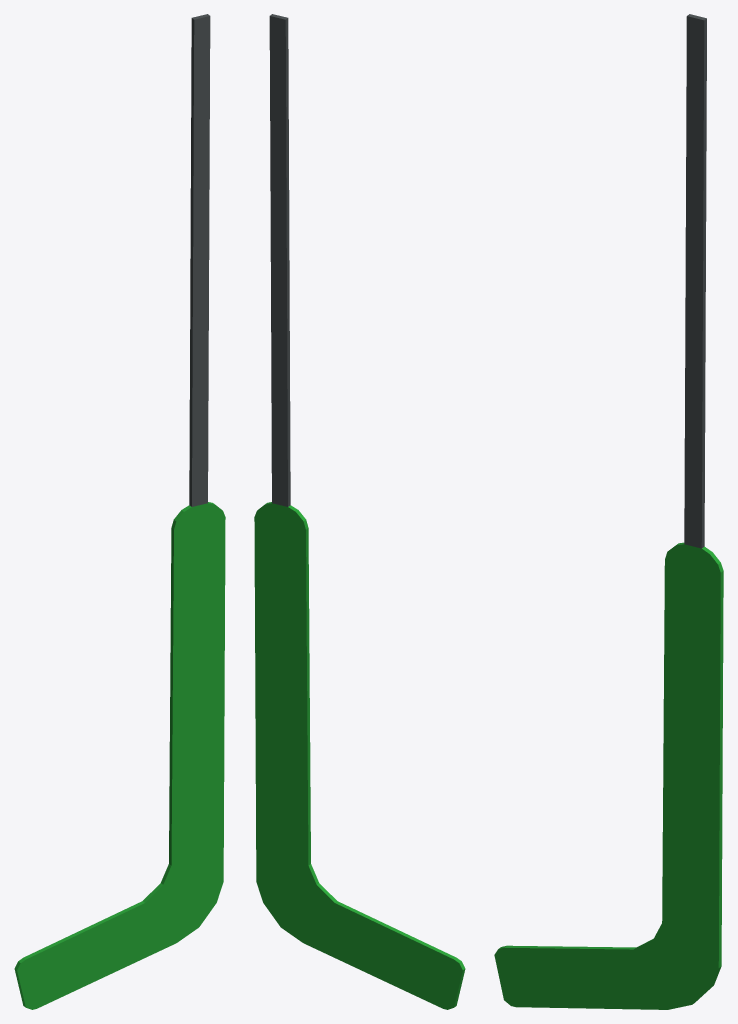
Rendered from Ice_hockey_blocker_green.fbx.
3 views of the same model, side by side, from view 1: azimuth 30°, elevation 25°; view 2: azimuth 150°, elevation 25°; view 3: azimuth 330°, elevation 25° (orthographic). The views are drawn at different scales.
Parts seen in each view (by area): view 1: Ice_hockey_blocker_green; view 2: Ice_hockey_blocker_green; view 3: Ice_hockey_blocker_green.
Boxes of the visible parts, <box> form: Ice_hockey_blocker_green: <box>14,14,225,1009</box>; Ice_hockey_blocker_green: <box>254,14,465,1009</box>; Ice_hockey_blocker_green: <box>494,14,723,1009</box>.
Size of the model in its own units: 45.15 by 197 by 0.979.
